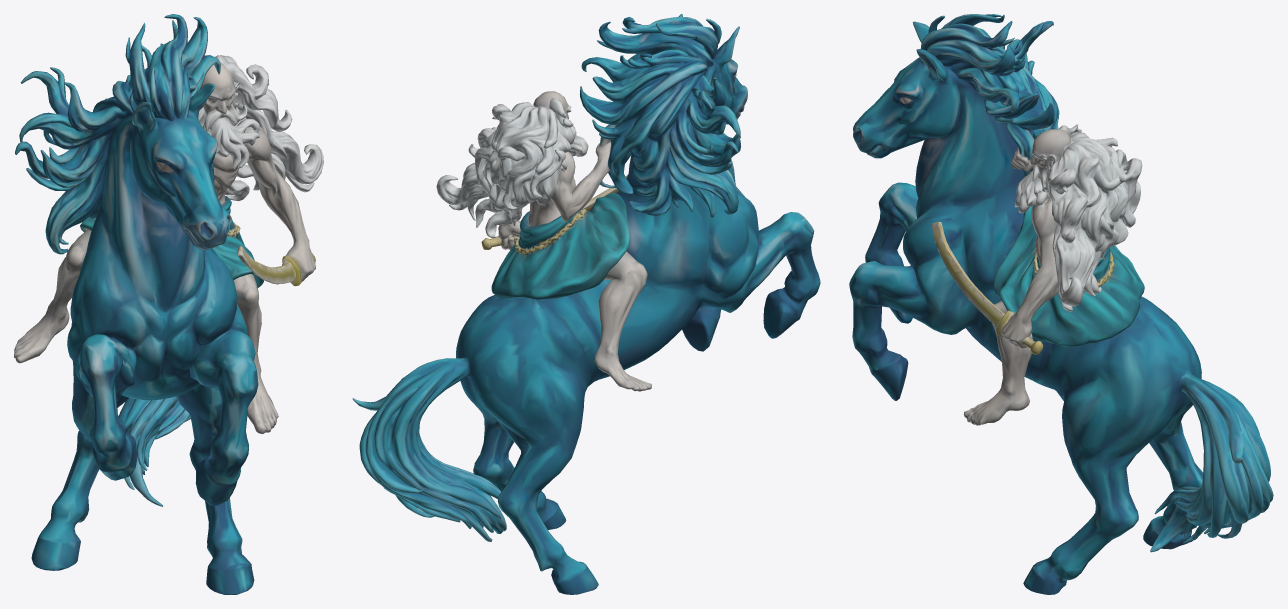
The picture shows the model from 3 angles, left to right: view 1: azimuth 30°, elevation 25°; view 2: azimuth 150°, elevation 25°; view 3: azimuth 270°, elevation 25°; orthographic projection. The views are drawn at different scales.
Visible parts, largest first — view 1: Meshy_AI_Stormhoof_Rider_20261120_texture001; view 2: Meshy_AI_Stormhoof_Rider_20261120_texture001; view 3: Meshy_AI_Stormhoof_Rider_20261120_texture001.
Boxes of the visible parts, box(x1,y1,x2,y2) form: Meshy_AI_Stormhoof_Rider_20261120_texture001: box(14, 14, 323, 594); Meshy_AI_Stormhoof_Rider_20261120_texture001: box(352, 14, 820, 594); Meshy_AI_Stormhoof_Rider_20261120_texture001: box(849, 14, 1273, 594).
Size of the model in its own units: 0.0283 by 0.0469 by 0.0344.
